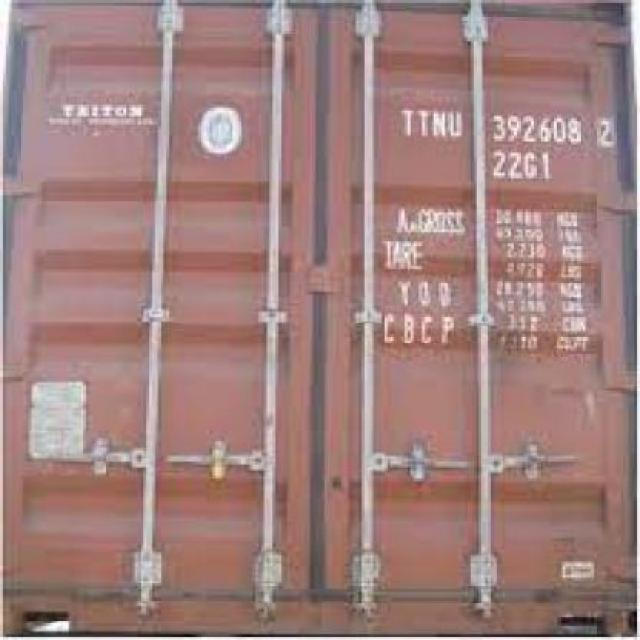ISO: (494, 150, 552, 180)
container_number: (406, 110, 609, 146)
